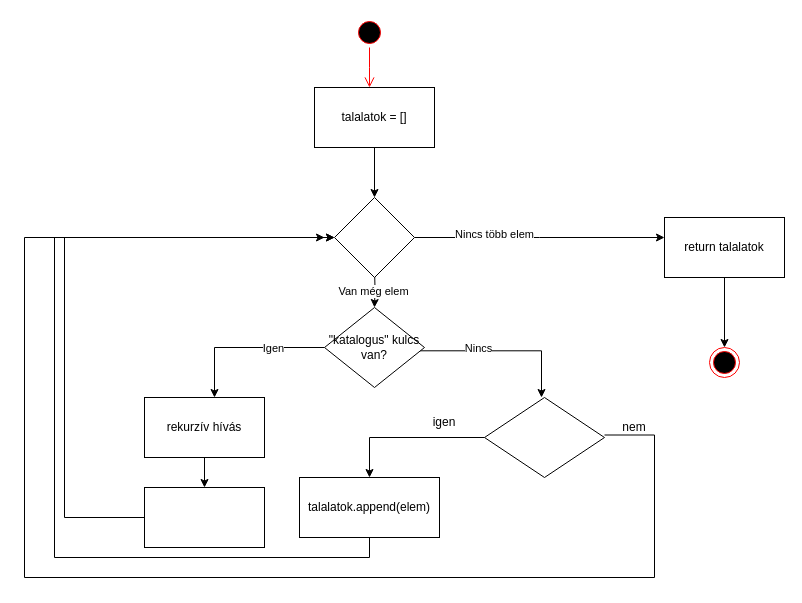
The diagram is 802 pixels wide and 603 high, and some of its shapes have lost their labels. The centre of each missing label's shape, as x and y in pixels:
"for elem in katalogus" goes at point 374,237.
"megfelel a feltételnek?" goes at point 544,437.
"talalatok.extend(...)" goes at point 204,517.
